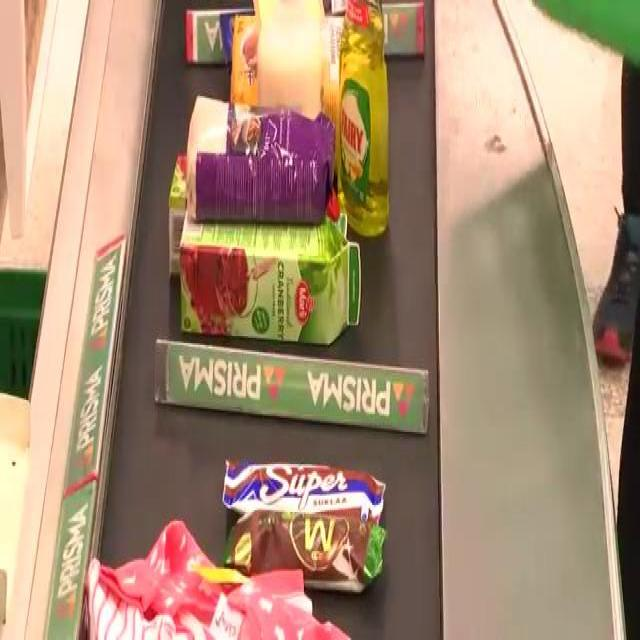beverage: (184, 230, 360, 339)
food-box: (194, 78, 346, 220), (246, 445, 381, 600)
utility-box: (96, 570, 345, 640), (344, 5, 386, 235)
